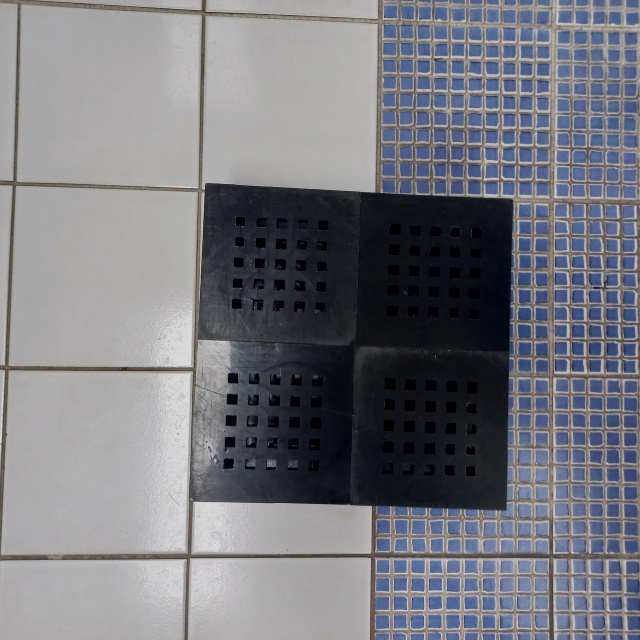pallet: (191, 180, 514, 511)
